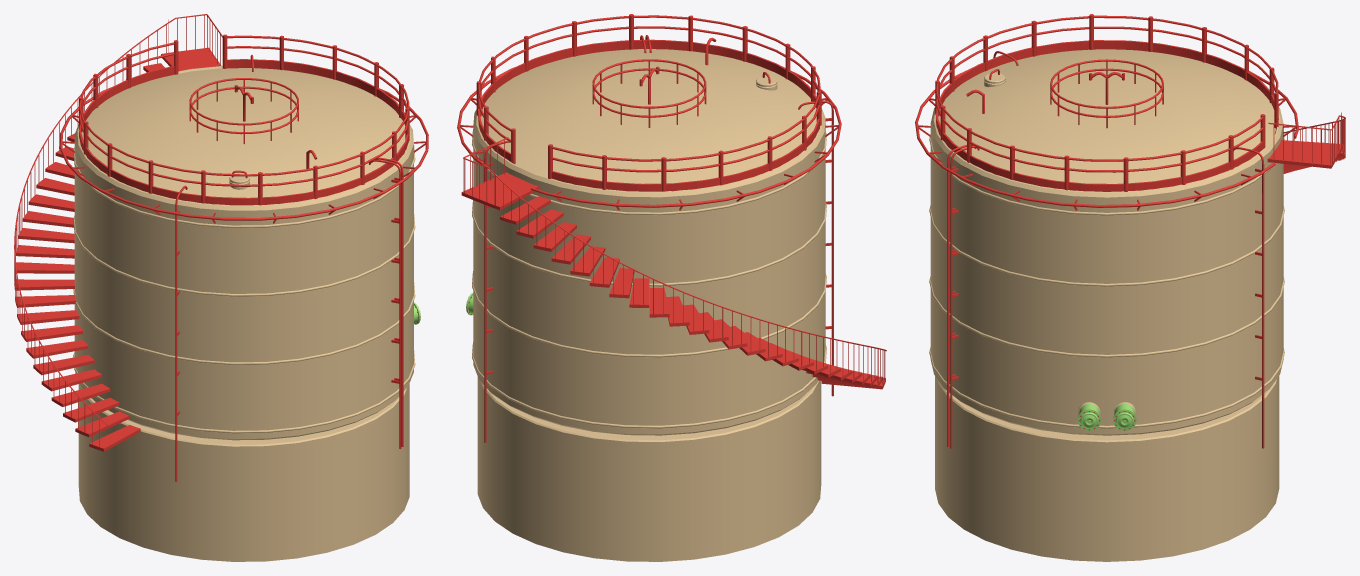
Rendered from OilTank.fbx.
The picture shows the model from 3 angles, left to right: view 1: azimuth 30°, elevation 25°; view 2: azimuth 150°, elevation 25°; view 3: azimuth 270°, elevation 25°; orthographic projection. The views are drawn at different scales.
Parts seen in each view (by area): view 1: Tank, Tank.002, Tank.003, Tank.015, Tank.001, Tank.004, Tank.012, Tank.007, Tank.005, Tank.009, Tank.010; view 2: Tank, Tank.002, Tank.003, Tank.015, Tank.001, Tank.004, Tank.005, Tank.006, Tank.009, Tank.010; view 3: Tank, Tank.002, Tank.015, Tank.001, Tank.003, Tank.004, Tank.006, Tank.007, Tank.012, pipe5, Tank.009, Tank.010.
Part boxes in pixels (x1,y1,x2,y2): Tank: (74,66,413,440); Tank.002: (78,384,409,561); Tank.003: (14,14,222,451); Tank.015: (79,34,409,205); Tank.001: (73,145,415,433); Tank.004: (59,86,428,220); Tank.012: (369,159,401,448); Tank.007: (372,157,403,446); Tank.005: (175,185,187,481); Tank.009: (189,78,298,125); Tank.010: (189,86,298,134); Tank: (473,49,825,435); Tank.002: (477,377,821,561); Tank.003: (461,137,886,389); Tank.015: (476,14,821,191); Tank.001: (472,129,826,428); Tank.004: (457,66,841,207); Tank.005: (798,100,833,396); Tank.006: (484,140,510,442); Tank.009: (592,59,706,108); Tank.010: (592,68,706,117); Tank: (930,49,1283,435); Tank.002: (935,376,1279,561); Tank.015: (935,14,1278,191); Tank.001: (929,134,1284,428); Tank.003: (1267,115,1345,173); Tank.004: (915,67,1298,207); Tank.006: (1233,147,1264,448); Tank.007: (950,145,979,448); Tank.012: (947,144,976,446); pipe5: (1078,410,1135,430); Tank.009: (1050,59,1163,108); Tank.010: (1050,68,1163,117).
Bounding box in the file's own units: 8.82 × 9.29 × 8.69.
